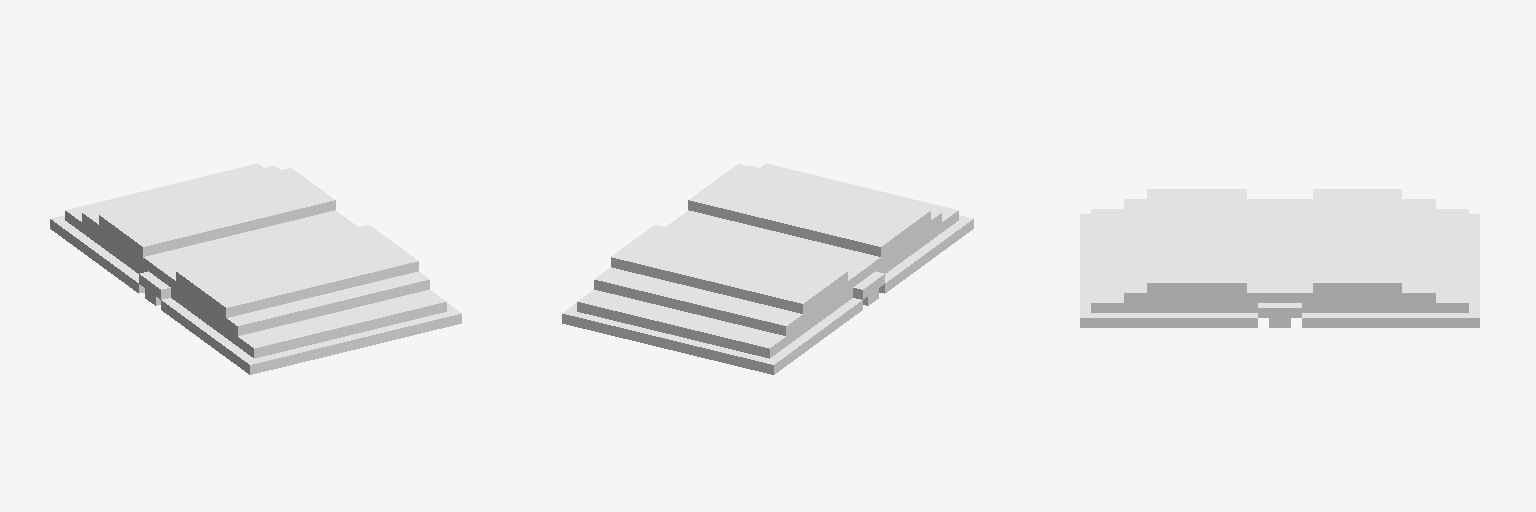
Rendered from BookOpen.obj.
The picture shows the model from 3 angles: view 1: azimuth 30°, elevation 25°; view 2: azimuth 150°, elevation 25°; view 3: azimuth 270°, elevation 25°; orthographic projection.
Bounding box in the file's own units: 22 × 4 × 36.